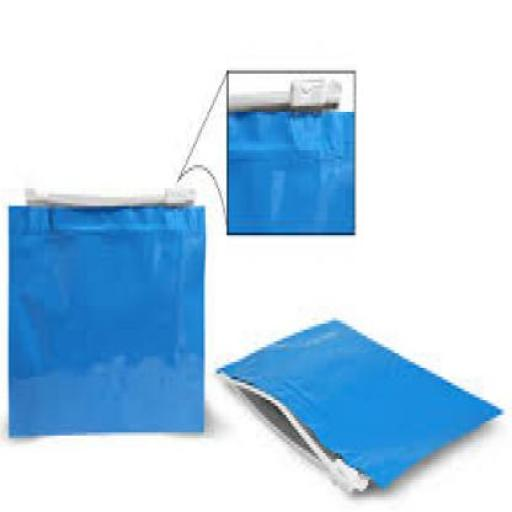plastic: (218, 314, 504, 492), (10, 185, 208, 439), (232, 74, 354, 229)
